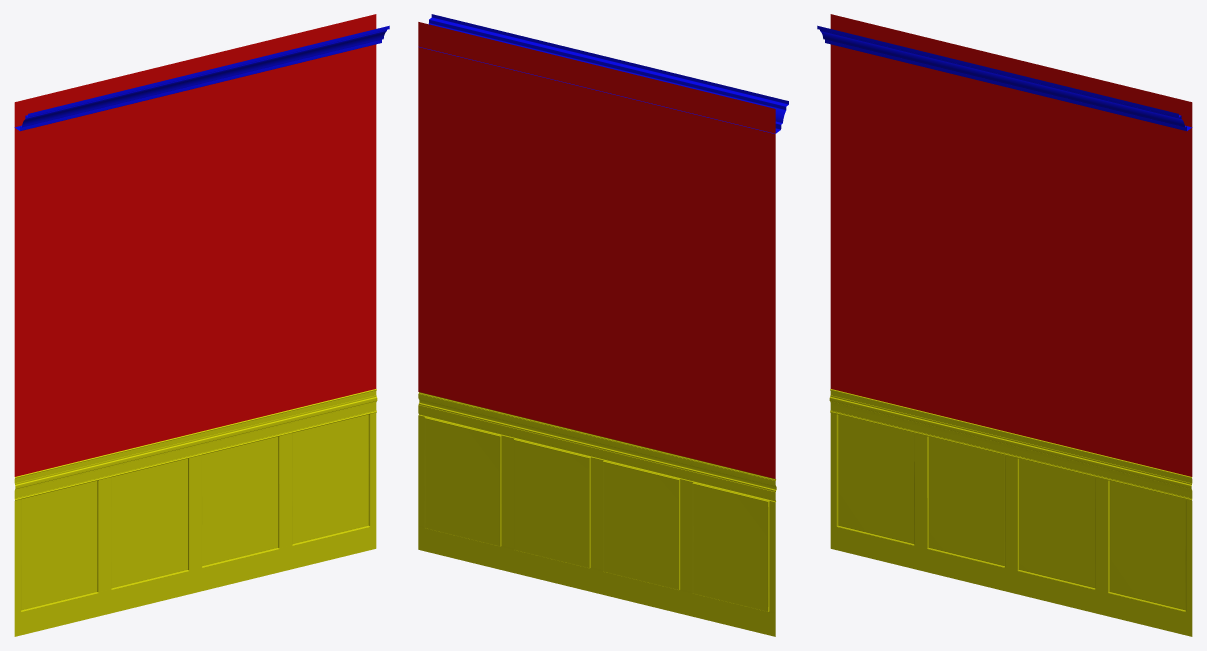
File: Passageway_wall_high.fbx
3 renders of one model, left to right at view 1: azimuth 30°, elevation 25°; view 2: azimuth 150°, elevation 25°; view 3: azimuth 330°, elevation 25°, orthographic.
Parts seen in each view (by area): view 1: Passageway_wall_high; view 2: Passageway_wall_high; view 3: Passageway_wall_high.
Part boxes in pixels (x1,y1,x2,y2): Passageway_wall_high: (14,14,389,636); Passageway_wall_high: (418,14,788,636); Passageway_wall_high: (817,14,1192,636).
Size of the model in its own units: 22 by 31.07 by 1.49.
